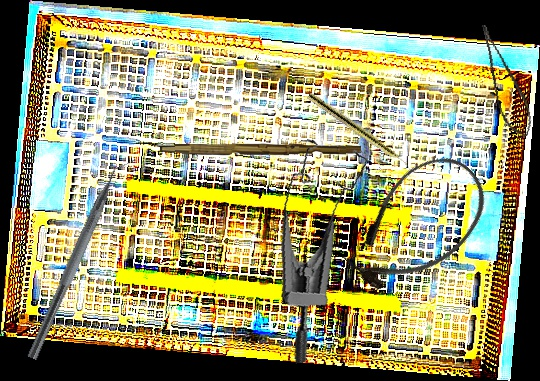Cannula: (329, 139, 504, 310)
Chopper: (26, 150, 139, 367)
Handpiece: (305, 91, 416, 173)
Micro Scissor: (478, 19, 536, 141)
Scalpel Handle: (159, 141, 362, 159)
Speculum: (254, 129, 401, 365)
